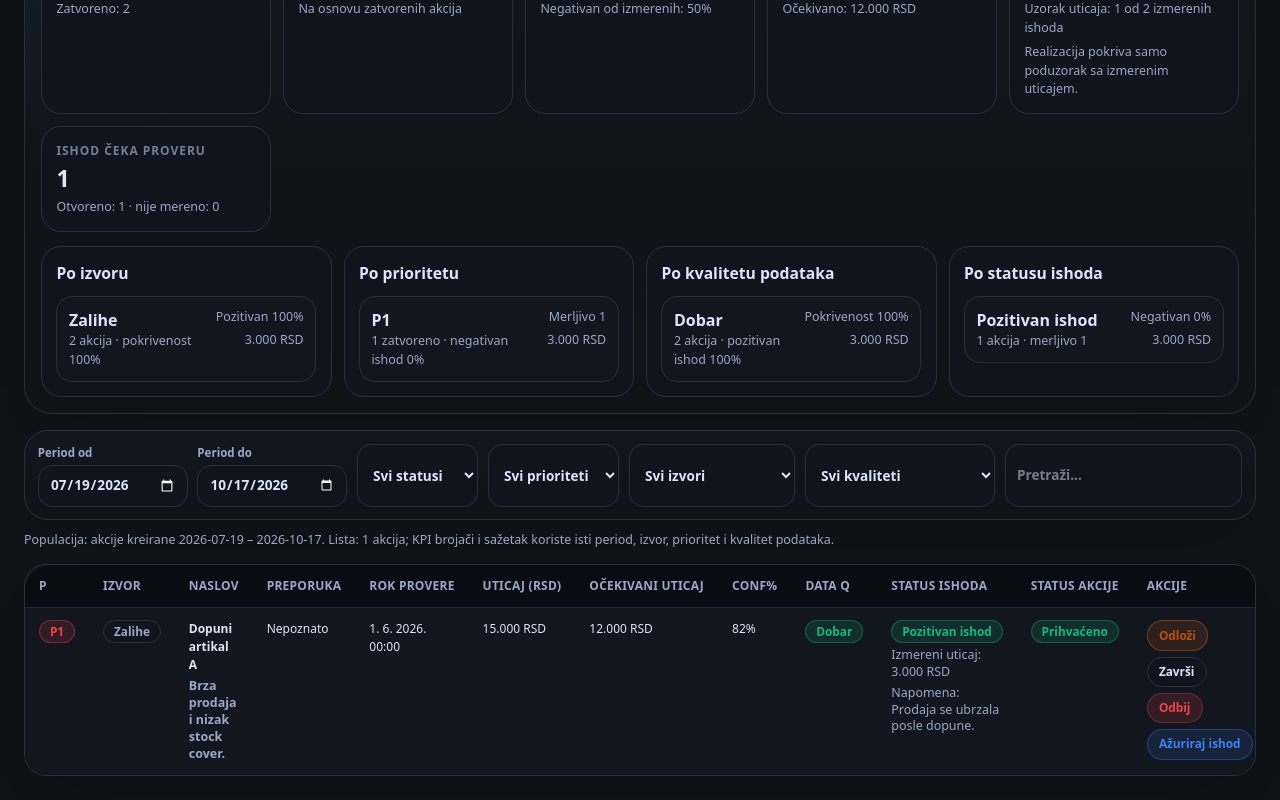
AnalyticsActionsPage › clears all active summary filters with one reset action
(page scrolled)
Expected: the text "Dopuni artikal A" is shown, [189, 620, 232, 673]
Select "Zalihe" in the dropdown named "Filter po izvoru": (712, 475) [629, 444, 795, 507]
(page scrolled)
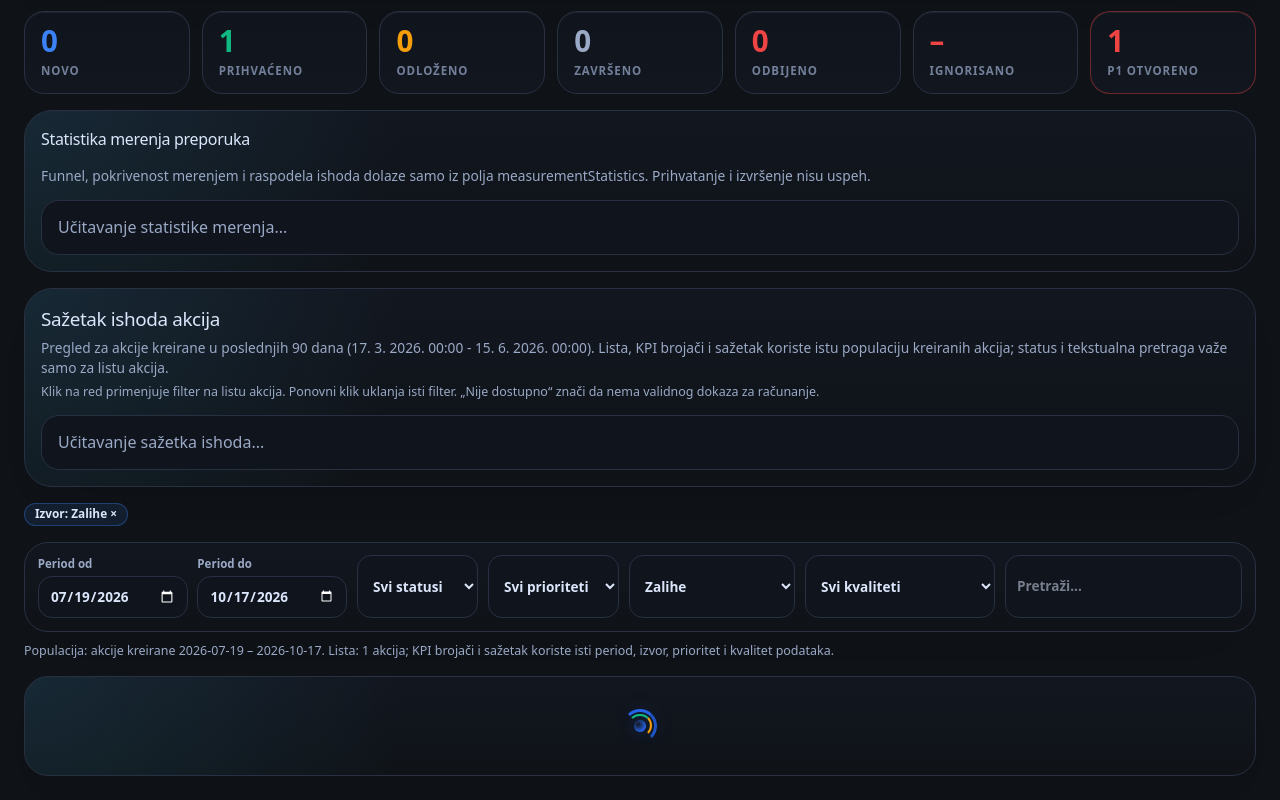
Select "P1" in the dropdown named "Filter po prioritetu": (554, 587) [488, 556, 619, 618]
(page scrolled)
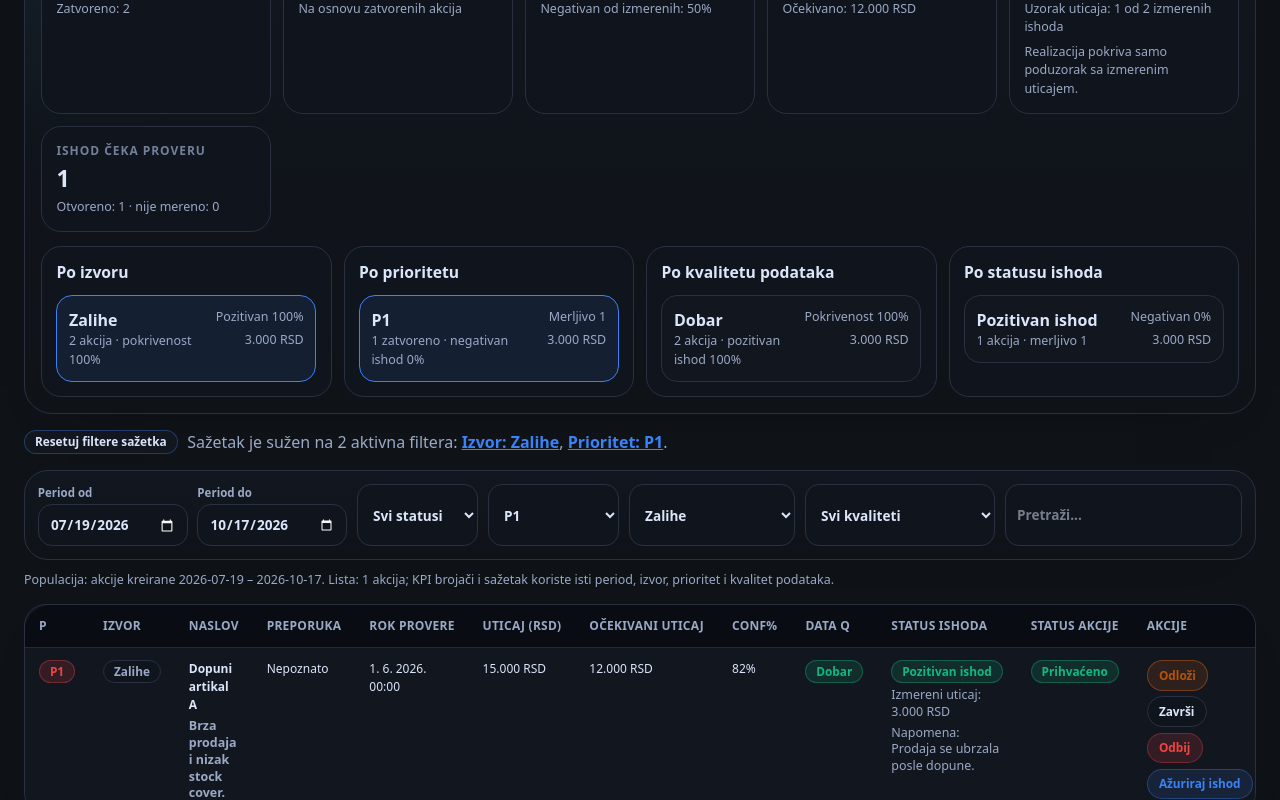
Result: the button "Izvor: Zalihe" is shown at [462, 430, 559, 454]
Result: the button "Resetuj filtere sažetka" is shown
Result: the button "Prioritet: P1" is shown at [568, 430, 663, 454]
Click the button "Resetuj filtere sažetka": (101, 442) [24, 430, 178, 454]
(page scrolled)
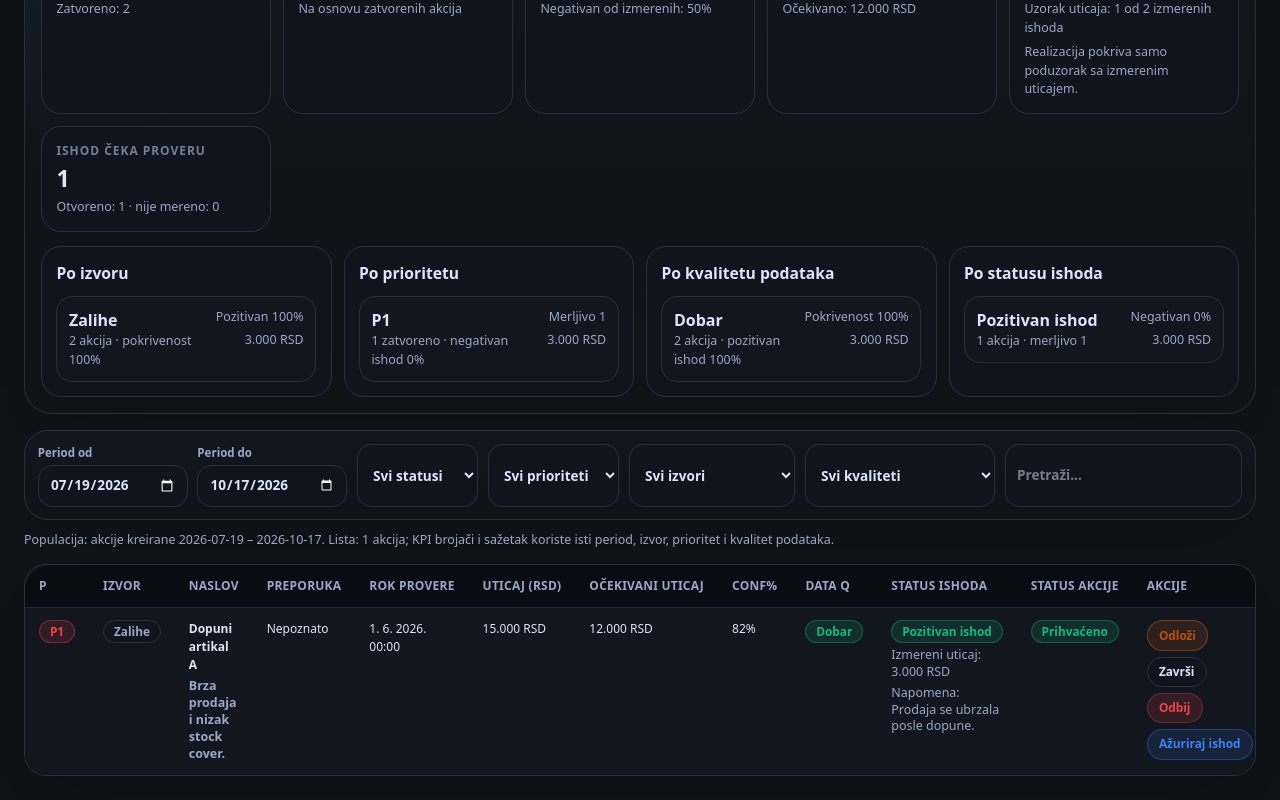
Result: the button "Izvor: Zalihe" is gone
Result: the button "Prioritet: P1" is gone
